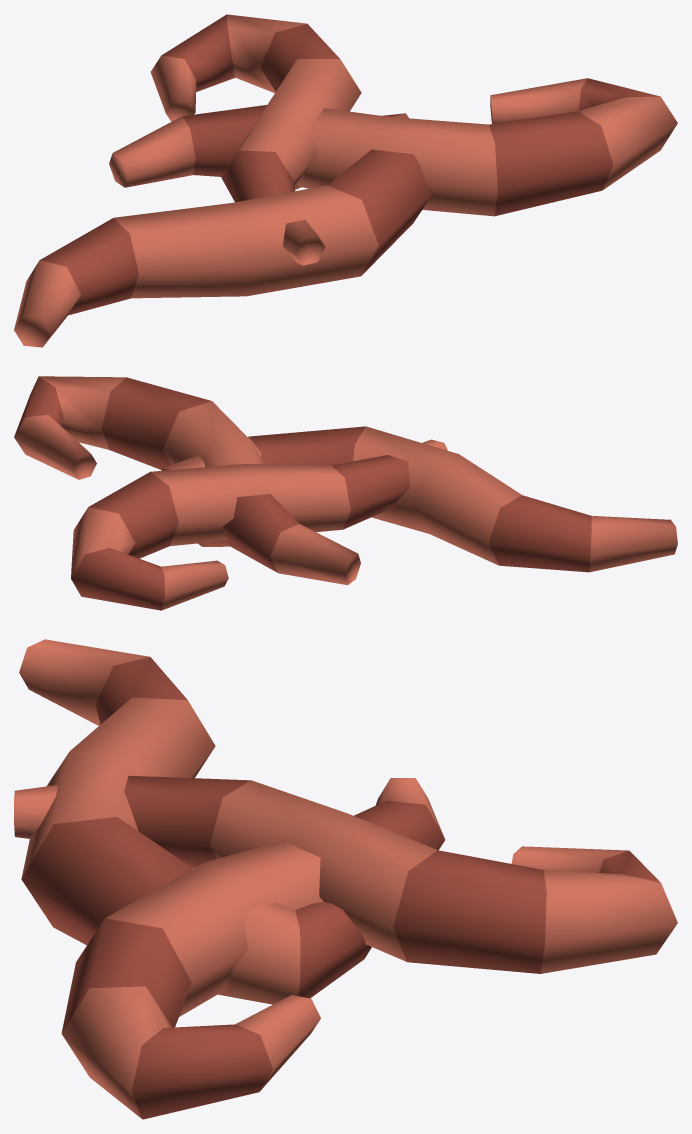
Rendered from FishingBaitStack3.glb.
3 renders of one model, top to bottom at view 1: azimuth 30°, elevation 25°; view 2: azimuth 150°, elevation 25°; view 3: azimuth 270°, elevation 25°, orthographic. The views are drawn at different scales.
Visible parts, largest first — view 1: EQ_FishingBait_x3; view 2: EQ_FishingBait_x3; view 3: EQ_FishingBait_x3.
Boxes of the visible parts, x1,y1,x2,y2 form: EQ_FishingBait_x3: (14, 14, 677, 347); EQ_FishingBait_x3: (14, 376, 677, 610); EQ_FishingBait_x3: (14, 639, 677, 1119).
Bounding box in the file's own units: 0.6579 × 0.0861 × 0.4024.
